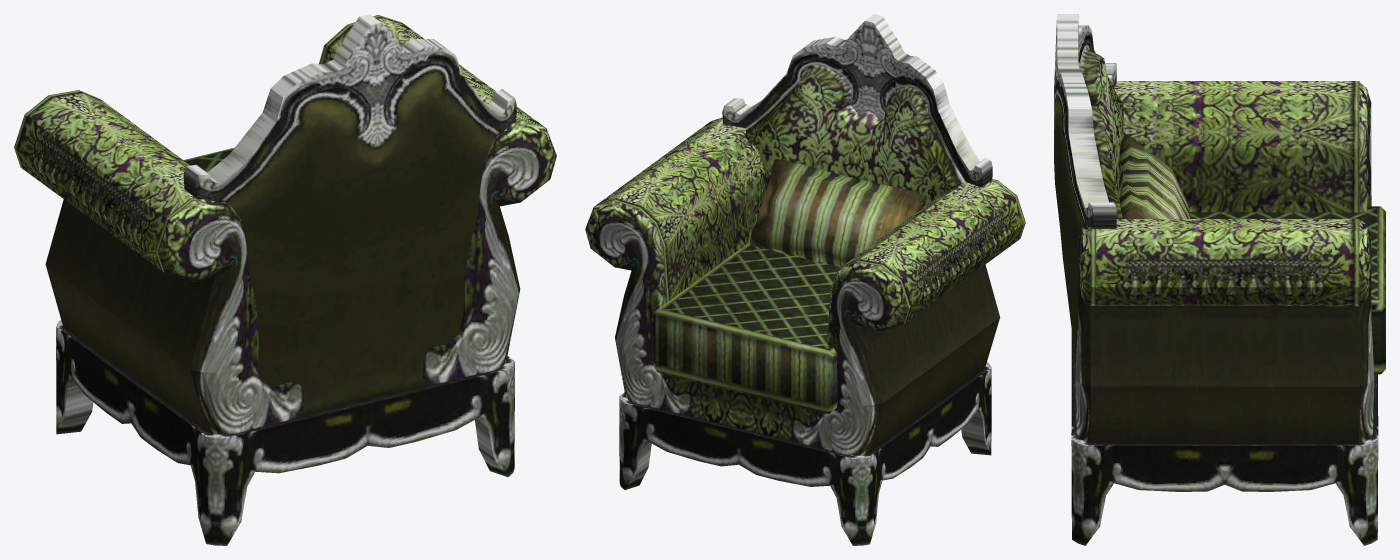
The model's file is furni_0201208_03.FBX.
3 renders of one model, left to right at view 1: azimuth 30°, elevation 25°; view 2: azimuth 150°, elevation 25°; view 3: azimuth 270°, elevation 25°, orthographic. The views are drawn at different scales.
Parts seen in each view (by area): view 1: furni_0201208_03; view 2: furni_0201208_03; view 3: furni_0201208_03.
Part boxes in pixels (bbox=[...]): furni_0201208_03: bbox=[14, 14, 556, 545]; furni_0201208_03: bbox=[585, 14, 1025, 545]; furni_0201208_03: bbox=[1054, 14, 1385, 545].
Bounding box in the file's own units: 79.29 × 93.85 × 61.43.
